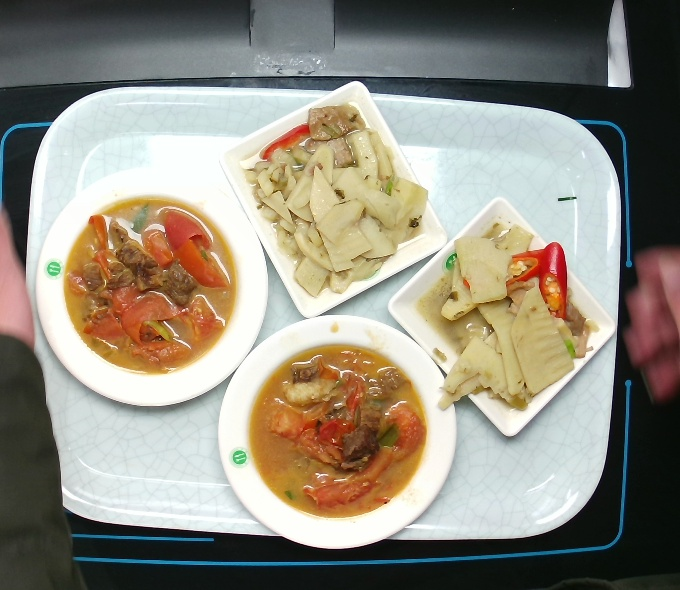wcq-DongSun: (240, 92, 436, 315), (417, 217, 599, 428)
wcq-FanQiwNiuRou: (235, 336, 432, 520), (62, 196, 236, 384)
